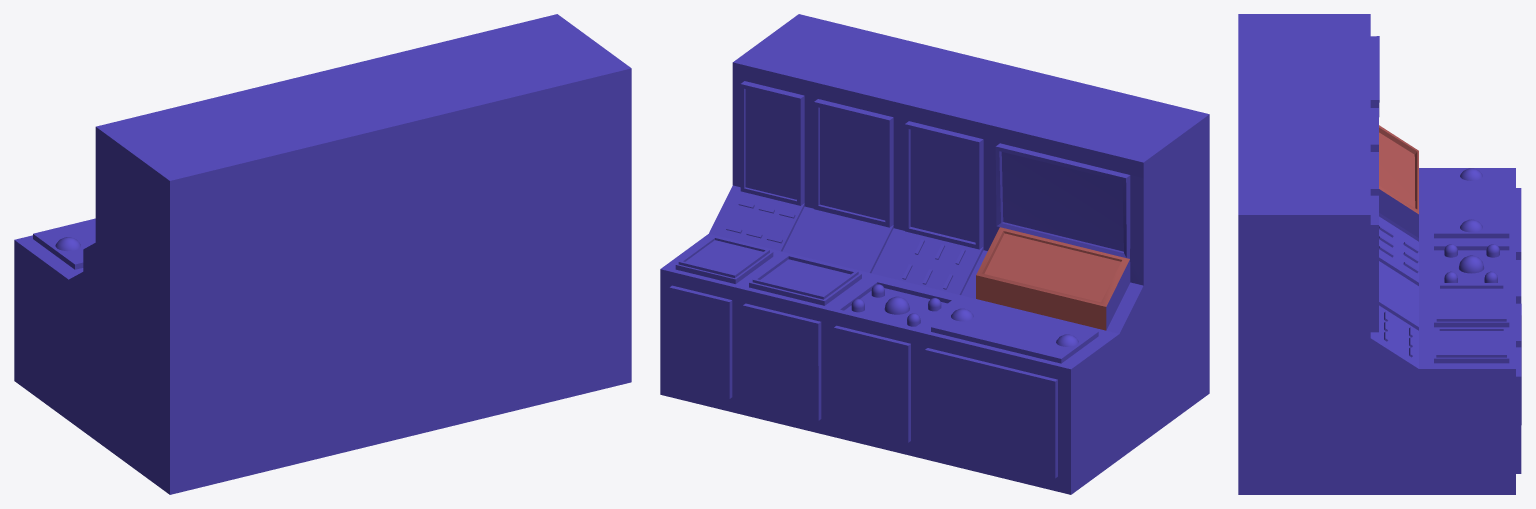
The model's file is ControlPaneUV.fbx.
3 renders of one model, left to right at view 1: azimuth 30°, elevation 25°; view 2: azimuth 150°, elevation 25°; view 3: azimuth 270°, elevation 25°, orthographic. The views are drawn at different scales.
Visible parts, largest first — view 1: pCube56; view 2: pCube56; view 3: pCube56.
Boxes of the visible parts, x1,y1,x2,y2 form: pCube56: (14, 14, 631, 494); pCube56: (660, 14, 1209, 494); pCube56: (1238, 14, 1521, 494).
Size of the model in its own units: 3.59 by 2.33 by 2.14.
